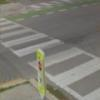crosswalks: (0, 16, 100, 99)
